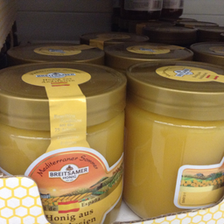honey: (1, 63, 126, 224), (128, 59, 223, 224)
